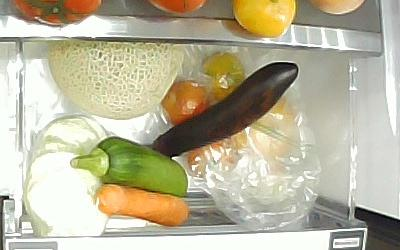cabbage: (28, 116, 108, 237)
carrot: (89, 184, 190, 227)
eggplant: (151, 60, 300, 159)
melon: (46, 41, 181, 120)
prune_vinyl: (161, 81, 208, 126)
tangerine_vinyl: (200, 53, 246, 96)
zucchini: (70, 137, 188, 198)
